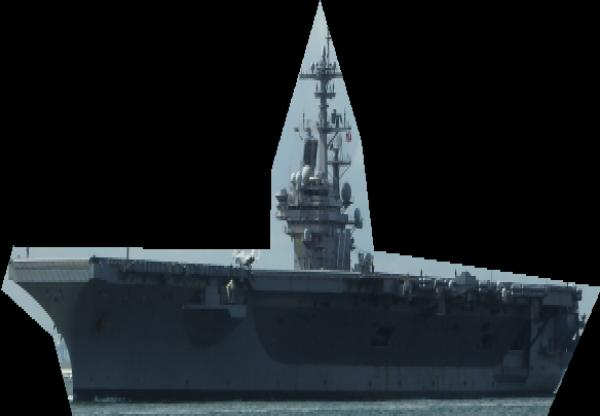Aircraft Carrier: (1, 0, 600, 416)
